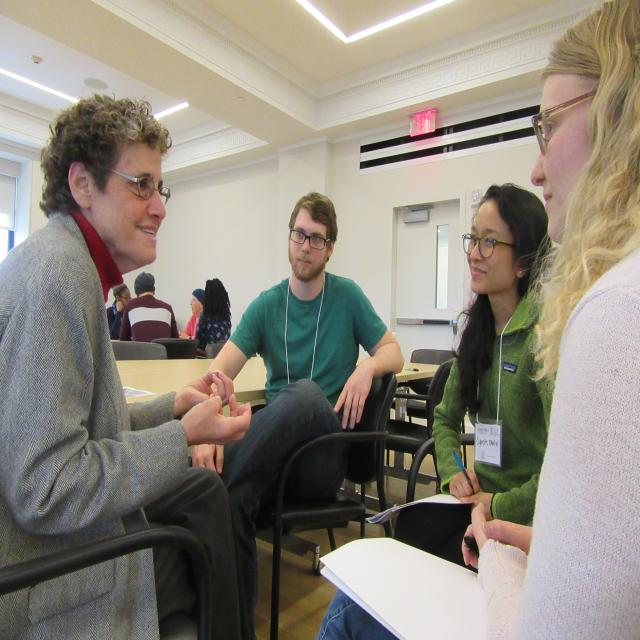body: (298, 0, 640, 640), (0, 88, 271, 640), (187, 192, 406, 640), (394, 183, 558, 573), (119, 271, 180, 341), (195, 278, 232, 357), (106, 282, 133, 342), (178, 288, 205, 340)
